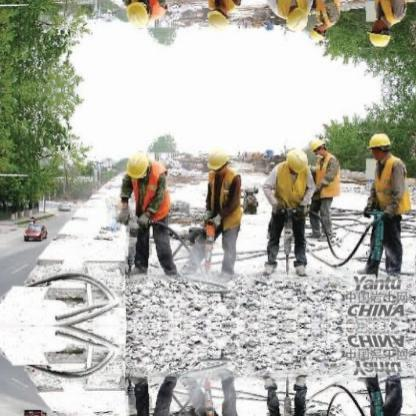Helmet: (206, 140, 236, 178), (200, 0, 235, 32), (124, 144, 155, 180), (282, 0, 312, 35), (126, 4, 158, 34), (365, 132, 396, 162), (280, 146, 308, 176), (365, 26, 392, 56), (306, 23, 330, 48), (303, 134, 327, 152)
